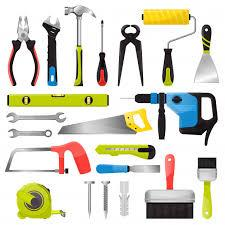hammer: (61, 3, 97, 88)
